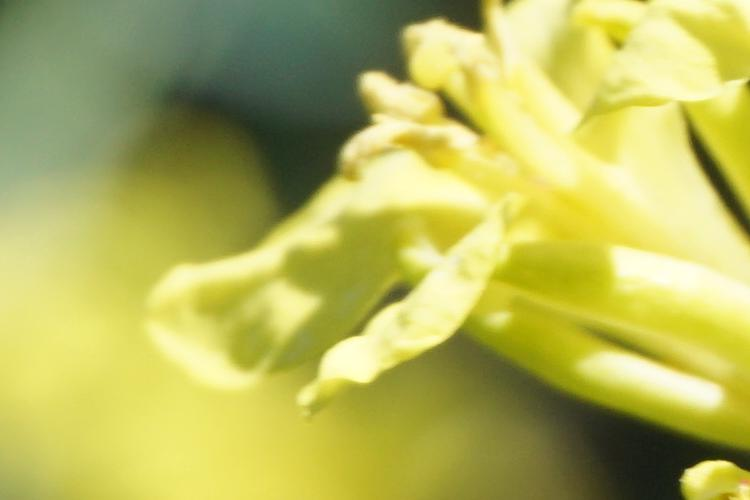yellow: (177, 15, 743, 429)
